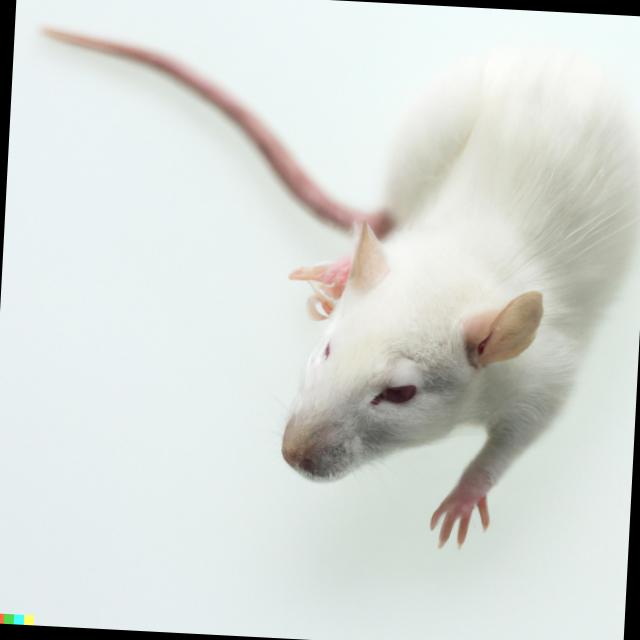rodents: (255, 15, 640, 536)
